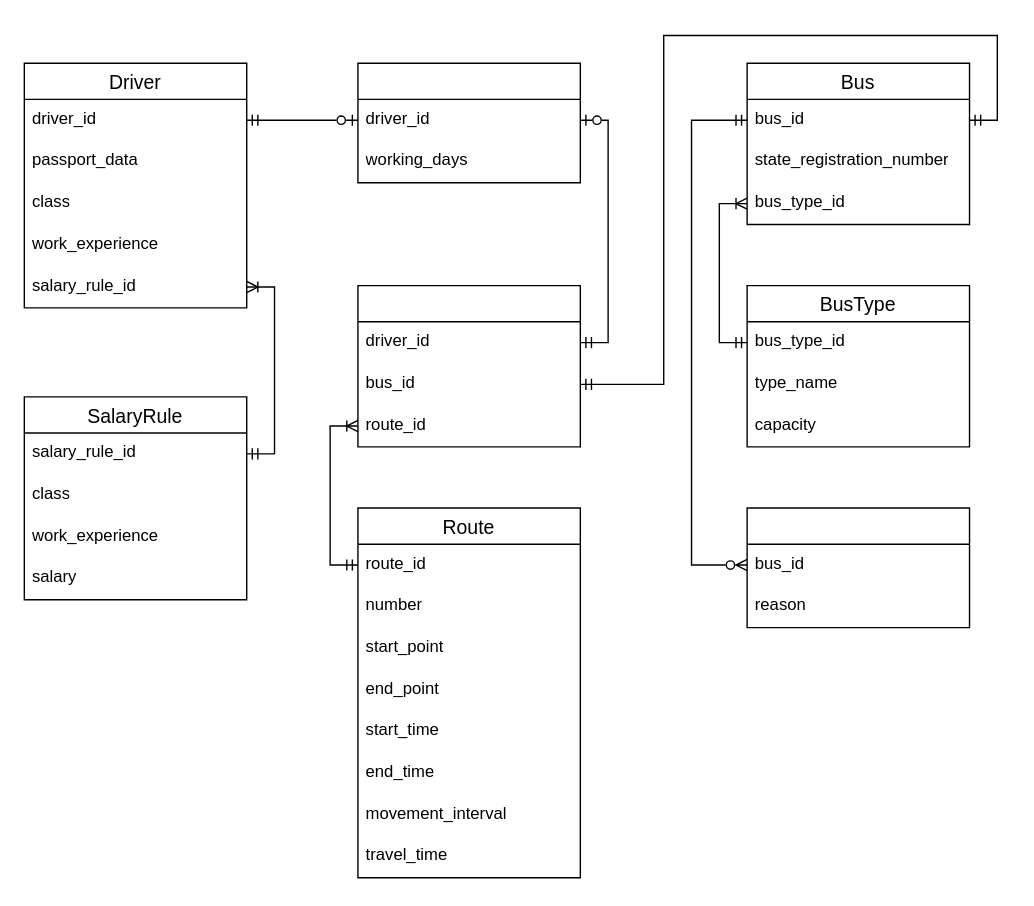
Image size: 1034x906. Some labels were removed from this diagram. Each missing label, with the box of its shape:
DriverBusRoute: (357, 284, 580, 447)
Issues: (746, 507, 970, 628)
WorkSchedule: (357, 62, 580, 183)
